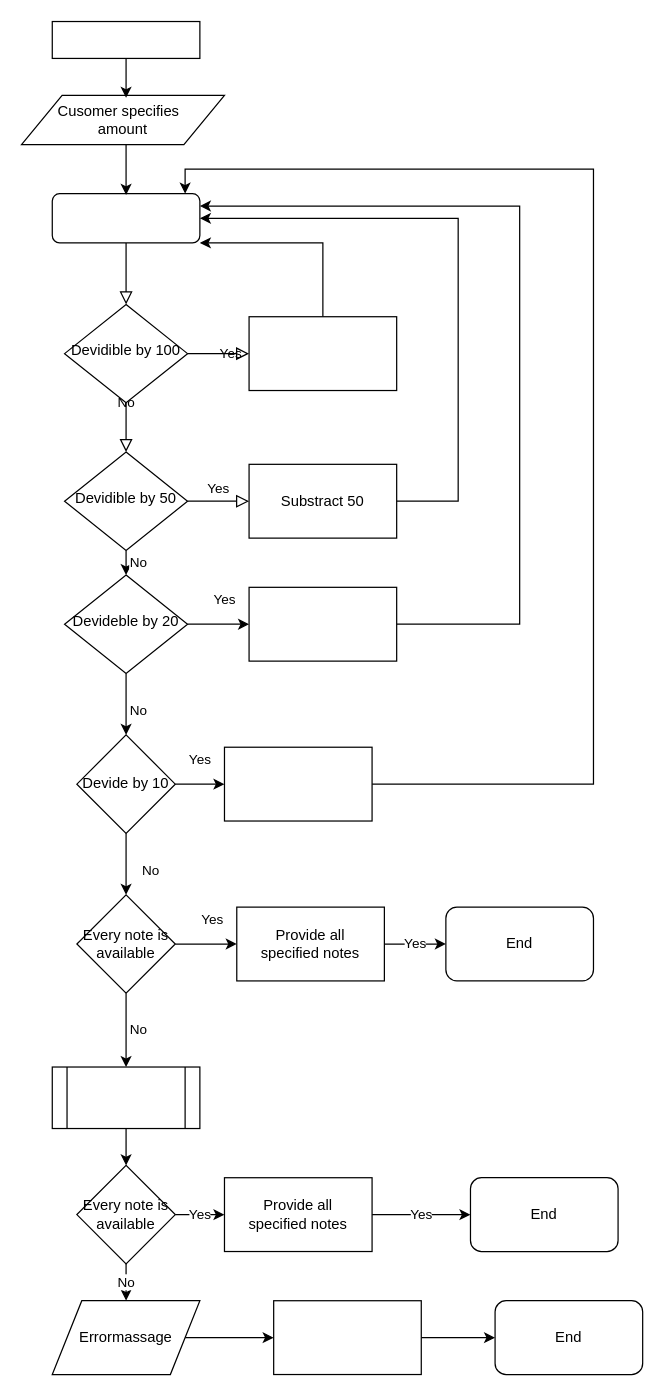
Some shapes in this 664 by 1396 pixel diagram are drawn without their labels. The shapes that lost their labels are listed below. From the top down, each one's box as (x1, y1, x2, y2) in pixels, then its label:
(51, 20, 200, 58): Start
(51, 192, 200, 243): Amount specified
(248, 315, 397, 391): Substract 100
(248, 586, 397, 661): Substract 20
(223, 746, 372, 821): Subststract 10
(51, 1066, 200, 1129): Subprogram missing notes
(272, 1299, 421, 1375): Concel Process
